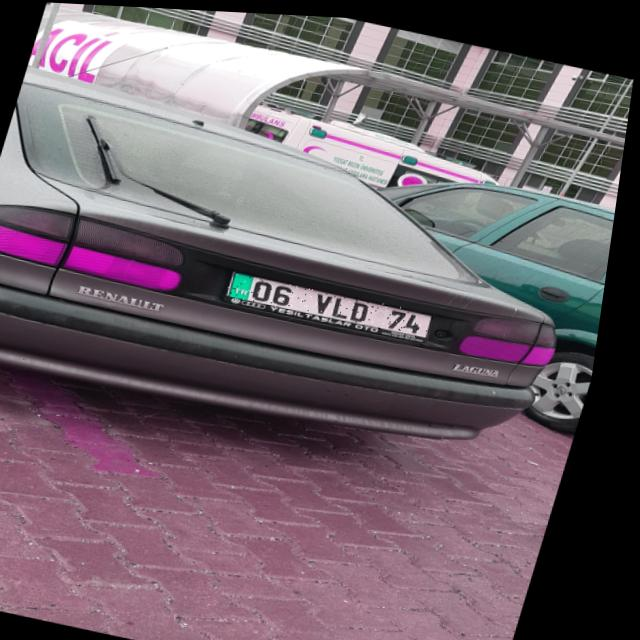license_plate: (229, 268, 446, 335)
